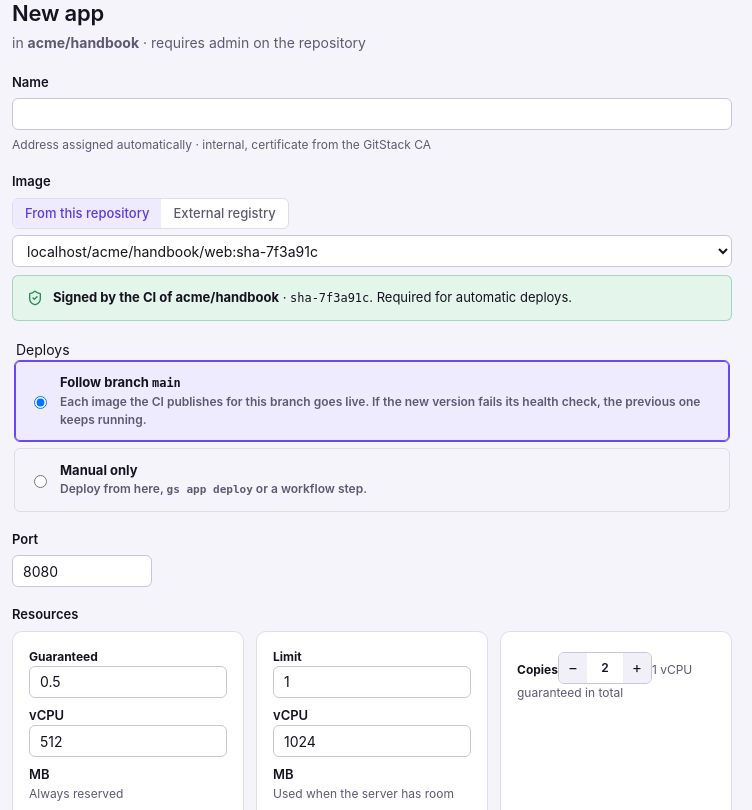
Test case: NewAppPage (H2) › server pieno: rifiuto chiaro e pulsante spento finche non si modifica qualcosa
This screenshot has width=752, height=810.
Check: the text "Signed by the CI of acme/handbook" is shown, box [53,289,279,305]
Step 1. Type "web" into the field labelled "Name" → (372, 114), box [12,98,732,130]
(page scrolled)
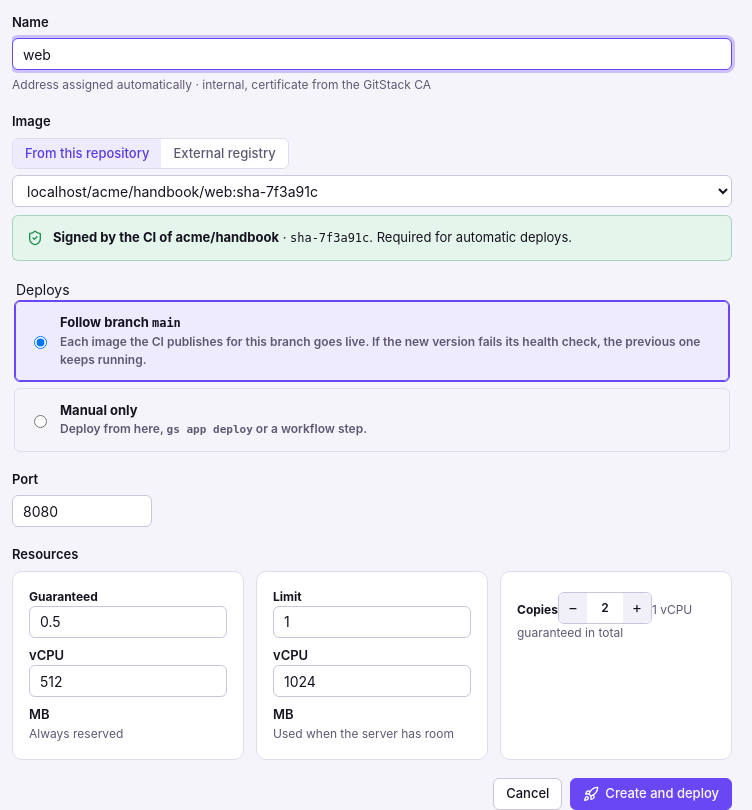
Step 2. Click the button "Create and deploy" → click(651, 794), box [570,778,732,809]
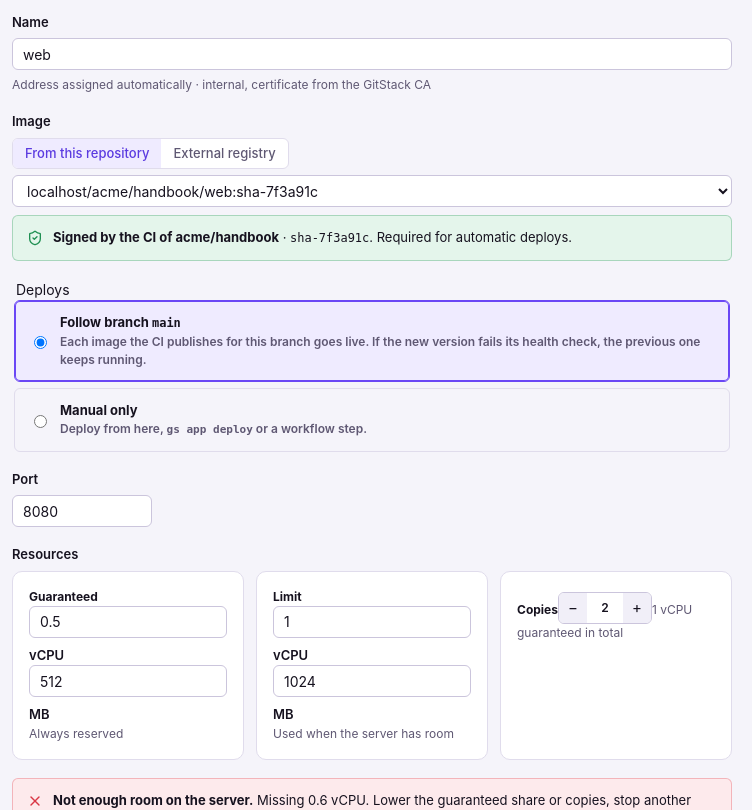
Check: the text "Not enough room on the server." is shown, box [53,792,253,808]
Check: the text "Missing 0.6 vCPU" is shown, box [257,792,369,808]
Step 3. Click the button named "Fewer copies" → click(573, 608), box [559,593,587,623]
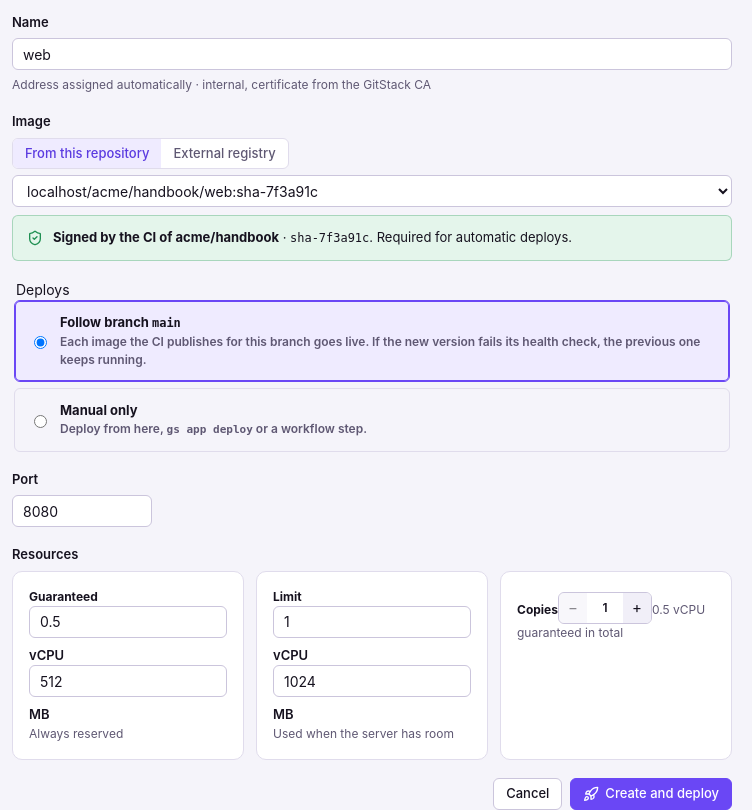
Check: the text "Not enough room on the server." is gone
Check: the button "Create and deploy" is enabled, box [570,778,732,809]
